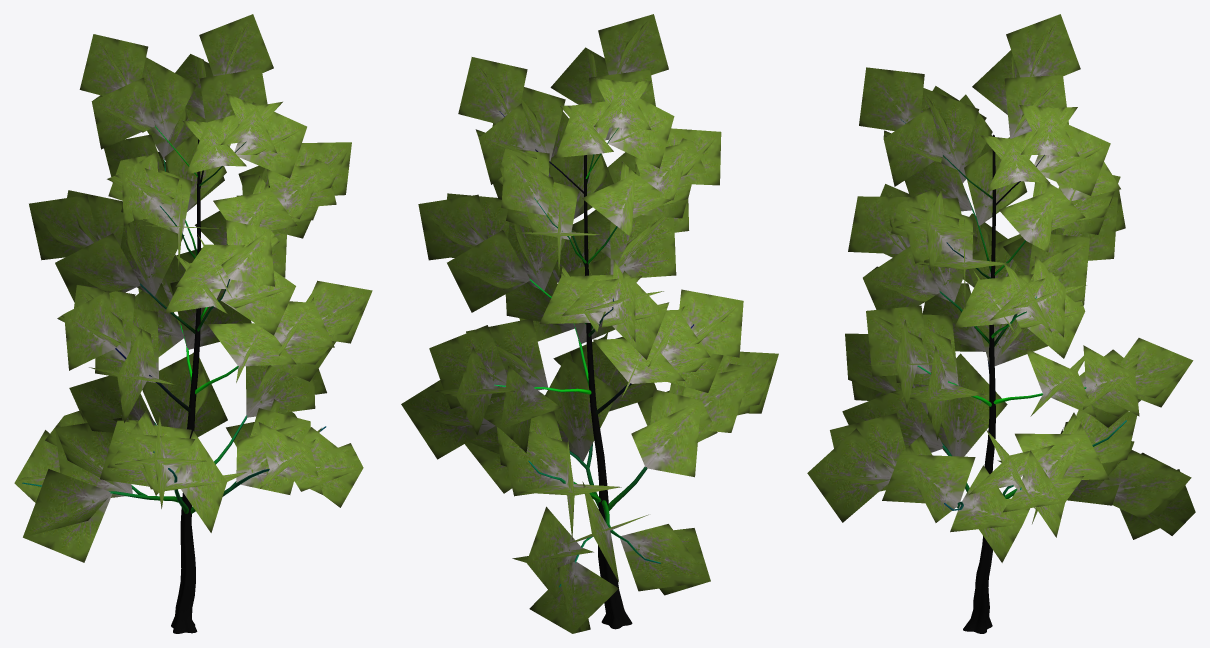
The model's file is BeechTree02.fbx.
3 renders of one model, left to right at view 1: azimuth 30°, elevation 25°; view 2: azimuth 150°, elevation 25°; view 3: azimuth 270°, elevation 25°, orthographic. The views are drawn at different scales.
Parts seen in each view (by area): view 1: Tree_1, Tree_0; view 2: Tree_1, Tree_0; view 3: Tree_1, Tree_0.
Boxes of the visible parts, x1,y1,x2,y2 form: Tree_1: (14,14,372,562); Tree_0: (22,126,326,633); Tree_1: (401,14,778,633); Tree_0: (494,111,693,629); Tree_1: (807,14,1195,562); Tree_0: (900,119,1126,633).
Bounding box in the file's own units: 72.47 × 134 × 80.17.
